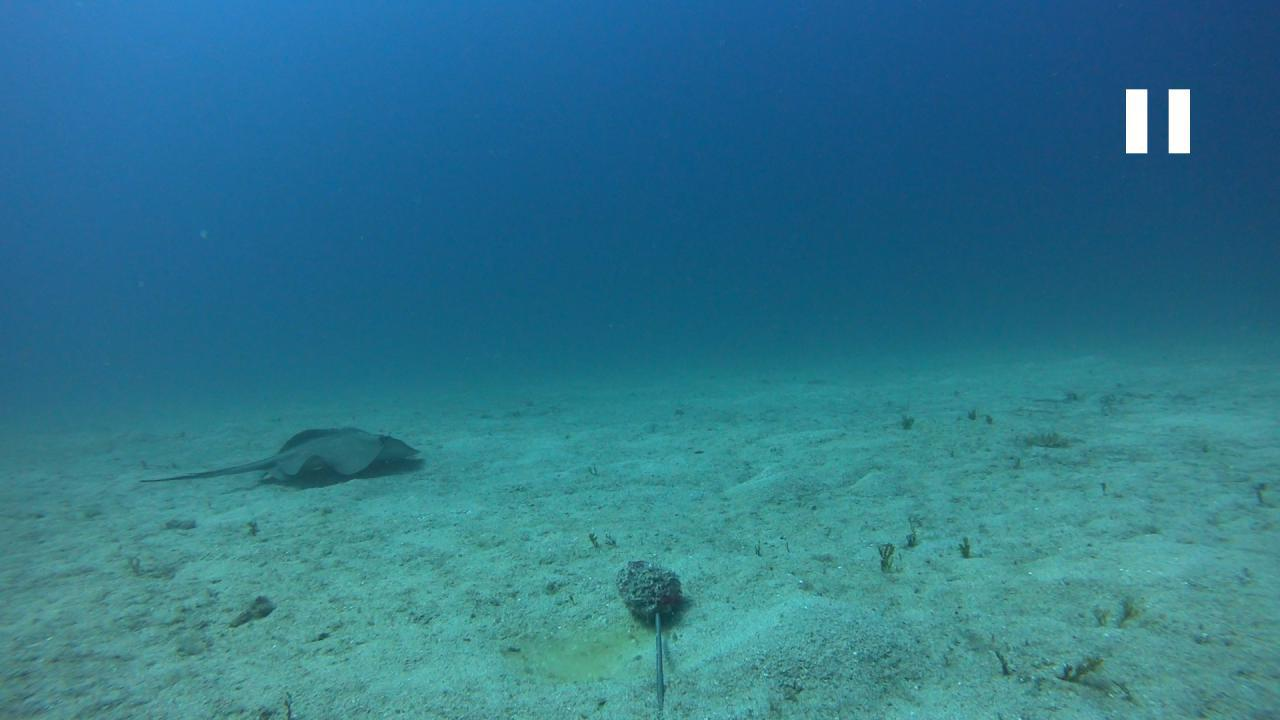dasyatis: (134, 421, 418, 483)
